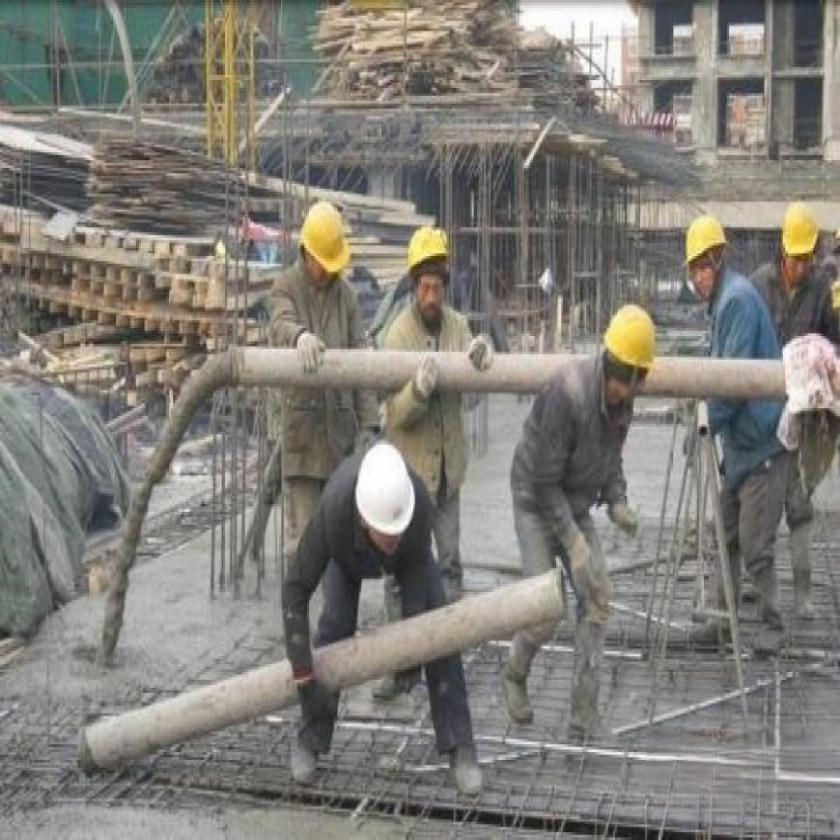Con_casco: (595, 295, 665, 422), (298, 191, 353, 296), (408, 221, 456, 334), (773, 197, 824, 292), (684, 212, 730, 306)
